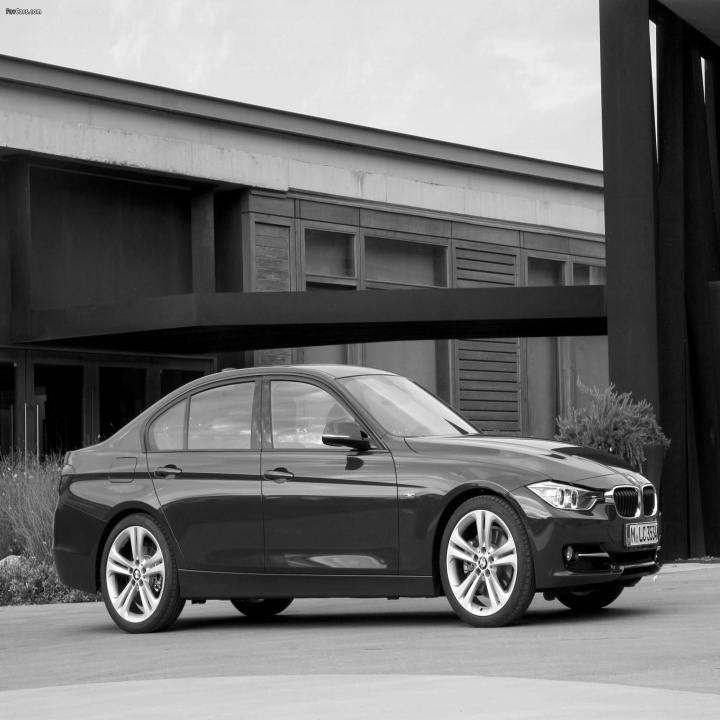car: (52, 362, 664, 634)
plat: (630, 522, 658, 546)
